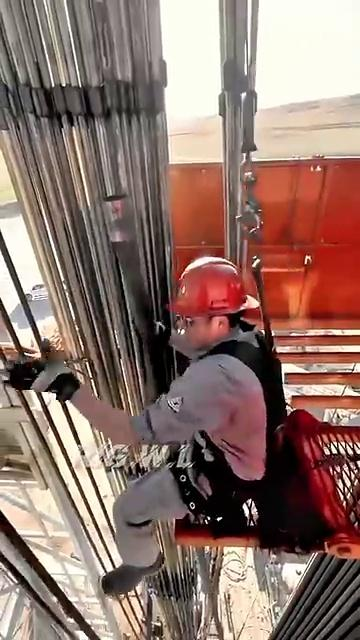gloves: (0, 316, 116, 436)
helmet: (167, 247, 270, 315)
shoes: (72, 553, 188, 605)
worker: (27, 208, 308, 632)
